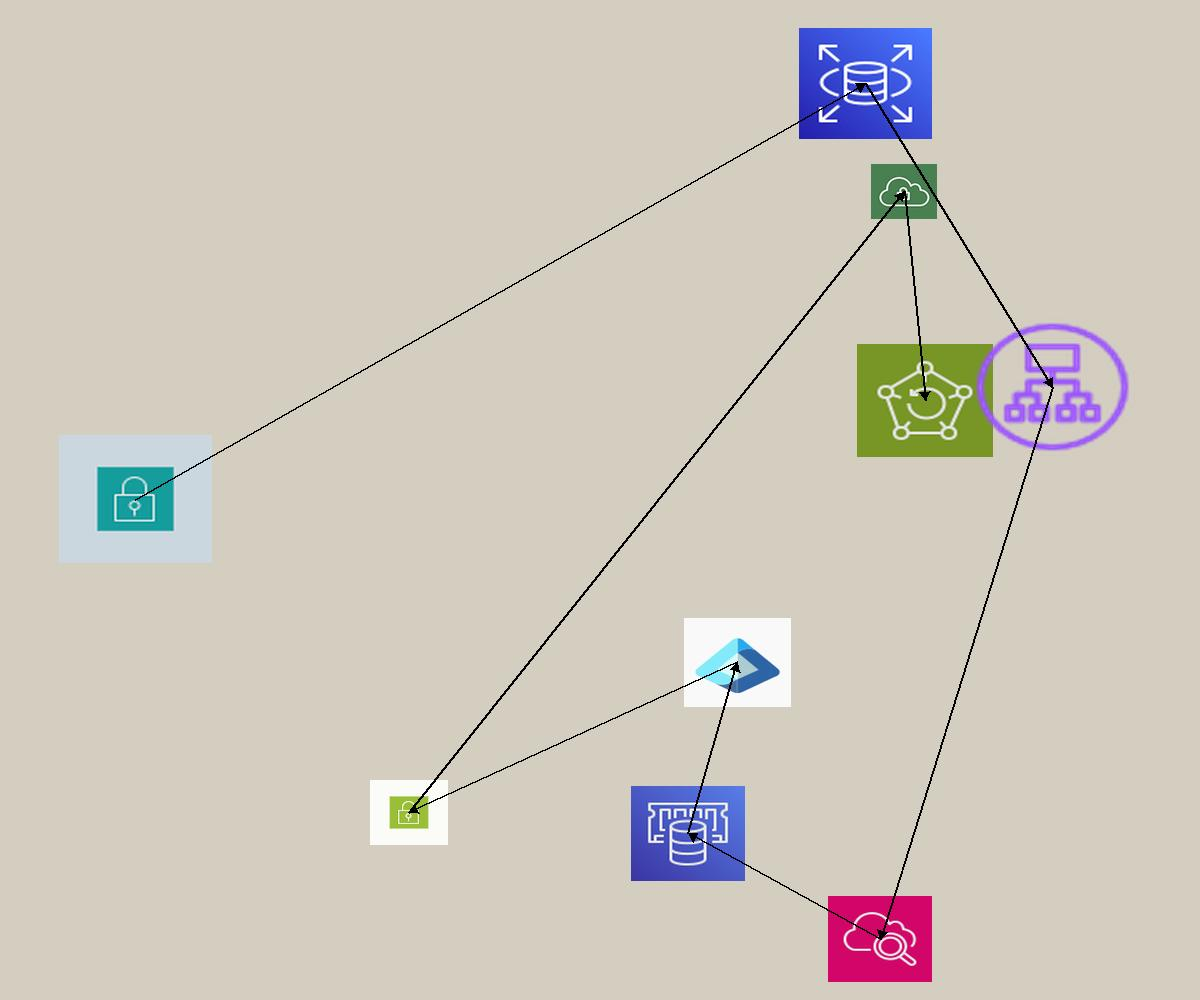AWS-Backup: (857, 344, 993, 457)
AWS-CloudWatch: (828, 896, 932, 982)
AWS-ElastiCache: (631, 786, 745, 881)
AWS-Private-subnet: (59, 435, 212, 563)
AWS-Private_vpc: (871, 164, 937, 219)
AWS-Public-subnet: (370, 780, 448, 845)
AWS-RDS: (799, 28, 932, 139)
AWS-Res_Elastic-Load-Balancing_Application-Load-Balancer: (970, 318, 1135, 456)
Azure_microsoft_entra: (684, 618, 791, 707)
